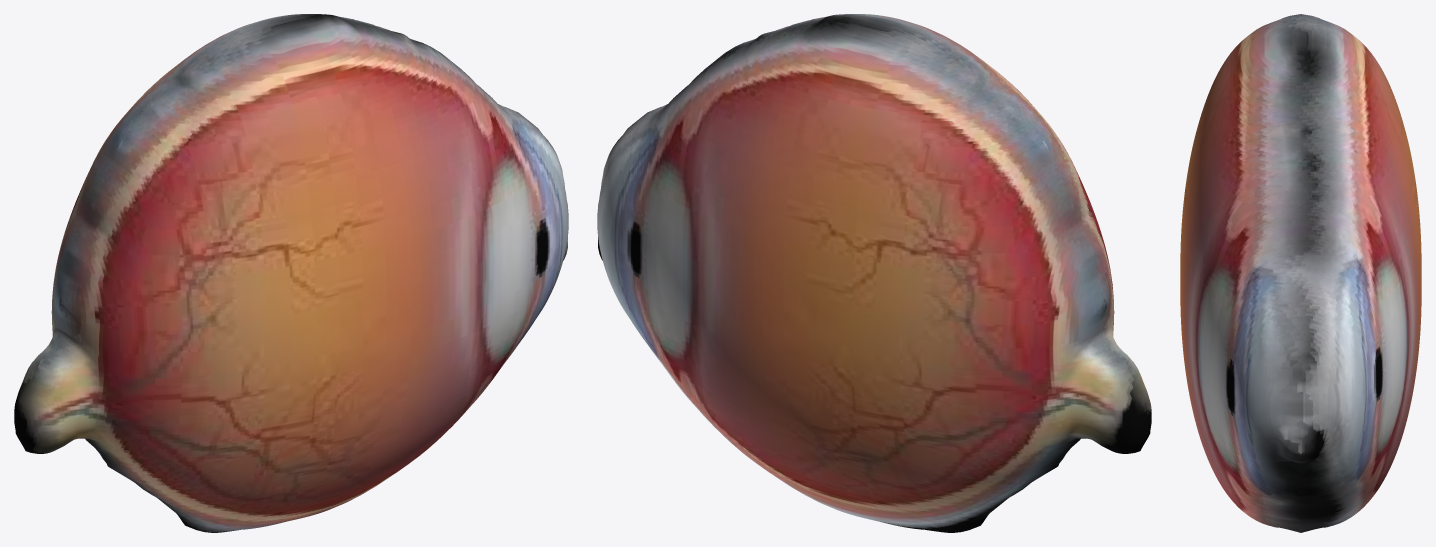
The model's file is mata.glb.
3 views of the same model, side by side, from view 1: azimuth 30°, elevation 25°; view 2: azimuth 150°, elevation 25°; view 3: azimuth 270°, elevation 25° (orthographic). The views are drawn at different scales.
Visible parts, largest first — view 1: mesh_id47; view 2: mesh_id47; view 3: mesh_id47.
Part boxes in pixels (box(x1,y1,x2,y2)): mesh_id47: box(14, 14, 568, 532); mesh_id47: box(597, 14, 1151, 532); mesh_id47: box(1180, 14, 1421, 532).
Bounding box in the file's own units: 0.2059 × 0.175 × 0.0805.
1 material, 1 textured.
